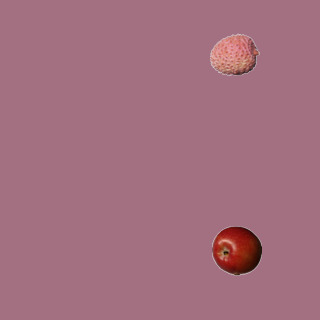Apple Braeburn: (211, 225, 261, 275)
Lychee: (209, 29, 259, 79)
